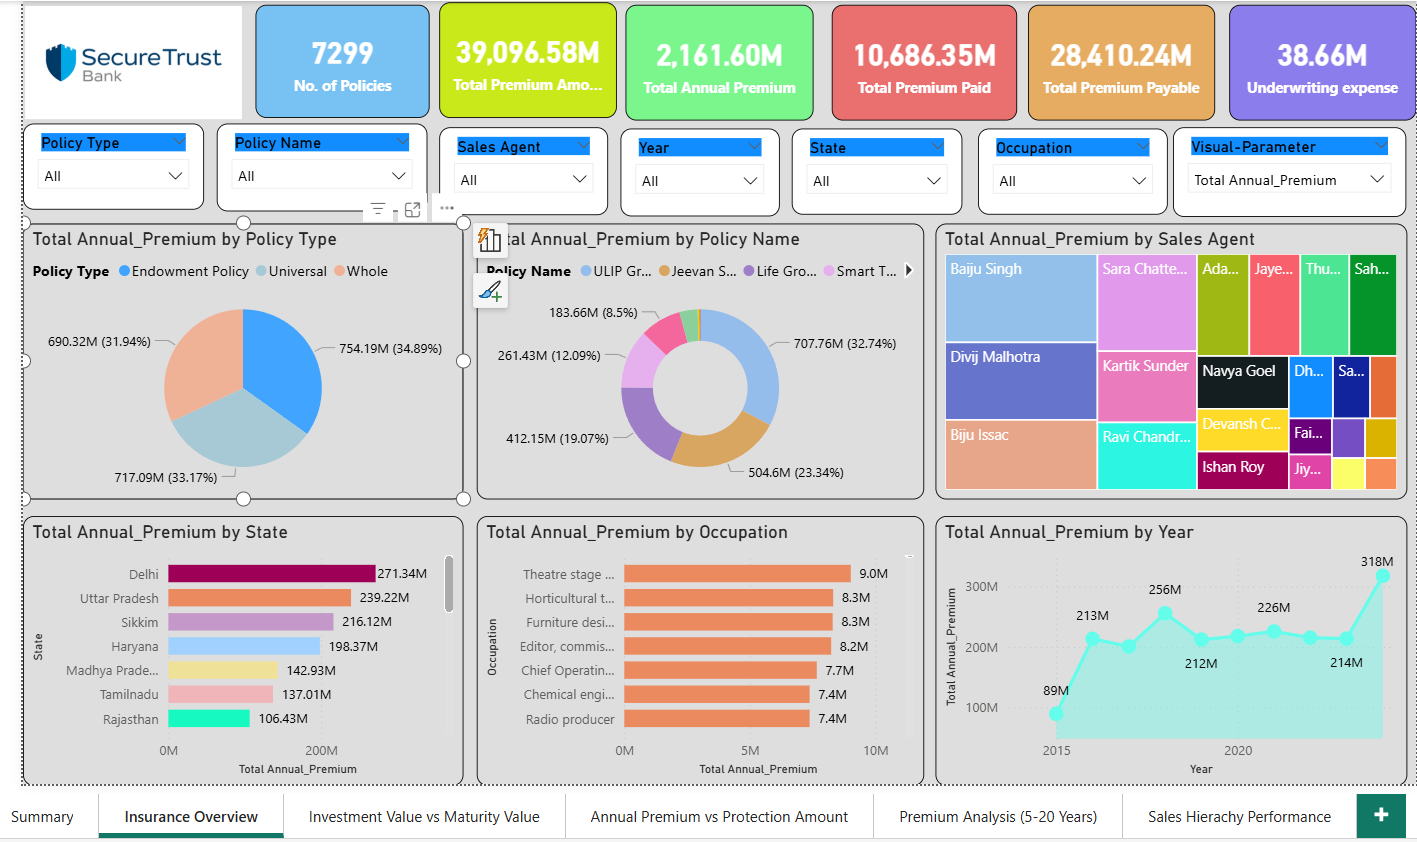

The page's visual inventory and layout, read from the dashboard file:
{"tool":"powerbi","page":{"name":"Insurance Overview","canvas":[1280,720],"ordinal":1},"visuals":[{"type":"card","fields":{"Values":["CountNonNull(DM Customer_Detail_Table.Customer ID)"]},"box":[213.5,2.9,160.1,103.9],"z":0},{"type":"card","fields":{"Values":["Sum(FCT Insurance_Policy_Table.Total Annual Premium)"]},"box":[554,2.9,173.1,106.8],"z":1000},{"type":"card","fields":{"Values":["Sum(FCT Insurance_Policy_Table.Total Premium Amount)"]},"box":[382.3,1.4,163,106.8],"z":2000},{"type":"card","fields":{"Values":["Sum(FCT Insurance_Policy_Table.Total Premium Paid)"]},"box":[743,2.9,170.2,106.8],"z":3000},{"type":"card","fields":{"Values":["Sum(FCT Insurance_Policy_Table.Total Premium Payable)"]},"box":[923.4,2.9,171.7,106.8],"z":4000},{"type":"card","fields":{"Values":["FCT Insurance_Policy_Table.Underwriting expense"]},"box":[1108,2.9,171.7,106.8],"z":5000},{"type":"slicer","fields":{"Values":["DM Policy_Type.Policy Type"]},"box":[0,112.7,166.7,79.4],"z":6000},{"type":"slicer","fields":{"Values":["DM Policy_Protection_Plan.Policy Name"]},"box":[177.8,112.7,193.7,81],"z":7000},{"type":"slicer","fields":{"Values":["DM Insurance_Agent_Table.Sales Agent"]},"box":[382.5,115.9,155.6,81],"z":8000},{"type":"slicer","fields":{"Values":["FCT Insurance_Policy_Table.Year"]},"box":[549.2,117.5,146,81],"z":9000},{"type":"slicer","fields":{"Values":["DM Customer_Detail_Table.State"]},"box":[706.3,117.5,157.1,79.4],"z":10000},{"type":"slicer","fields":{"Values":["DM Customer_Detail_Table.Occupation"]},"box":[877.8,117.5,174.6,79.4],"z":11000},{"type":"pieChart","fields":{"Y":["Measure Table.Total Annual_Premium"],"Category":["DM Policy_Type.Policy Type"]},"box":[0,204.8,404.8,254],"z":12000},{"type":"donutChart","fields":{"Y":["Measure Table.Total Annual_Premium"],"Category":["DM Policy_Protection_Plan.Policy Name"]},"box":[417.5,204.8,411.1,254],"z":13000},{"type":"treemap","fields":{"Values":["Measure Table.Total Annual_Premium"],"Group":["DM Insurance_Agent_Table.Sales Agent"]},"box":[838.1,204.8,433.3,254],"z":14000},{"type":"barChart","fields":{"Y":["Measure Table.Total Annual_Premium"],"Category":["DM Customer_Detail_Table.State"]},"box":[0,473,404.8,247.6],"z":15000},{"type":"barChart","fields":{"Y":["Measure Table.Total Annual_Premium"],"Category":["DM Customer_Detail_Table.Occupation"]},"box":[417.5,473,411.1,247.6],"z":16000},{"type":"areaChart","fields":{"Y":["Measure Table.Total Annual_Premium"],"Category":["FCT Insurance_Policy_Table.Year"]},"box":[838.1,473,433.3,247.6],"z":17000},{"type":"slicer","fields":{"Values":["Visual-Parameter.Visual-Parameter"]},"box":[1057.1,115.9,214.3,82.5],"z":18000},{"type":"image","box":[1.4,4.3,200.5,103.9],"z":19000}]}

Visuals, with their boxes in screenshot pixels (x1, y1, x2, y2):
card - CountNonNull(DM Customer_Detail_Table.Customer ID): region(248, 0, 423, 113)
card - Sum(FCT Insurance_Policy_Table.Total Annual Premium): region(620, 0, 809, 116)
card - Sum(FCT Insurance_Policy_Table.Total Premium Amount): region(432, 0, 610, 114)
card - Sum(FCT Insurance_Policy_Table.Total Premium Paid): region(826, 0, 1012, 116)
card - Sum(FCT Insurance_Policy_Table.Total Premium Payable): region(1023, 0, 1210, 116)
card - FCT Insurance_Policy_Table.Underwriting expense: region(1224, 0, 1412, 116)
slicer - DM Policy_Type.Policy Type: region(15, 119, 197, 206)
slicer - DM Policy_Protection_Plan.Policy Name: region(209, 119, 420, 208)
slicer - DM Insurance_Agent_Table.Sales Agent: region(432, 123, 602, 211)
slicer - FCT Insurance_Policy_Table.Year: region(614, 125, 774, 213)
slicer - DM Customer_Detail_Table.State: region(786, 125, 957, 211)
slicer - DM Customer_Detail_Table.Occupation: region(973, 125, 1164, 211)
pieChart - Measure Table.Total Annual_Premium x DM Policy_Type.Policy Type: region(15, 220, 457, 497)
donutChart - Measure Table.Total Annual_Premium x DM Policy_Protection_Plan.Policy Name: region(471, 220, 919, 497)
treemap - Measure Table.Total Annual_Premium x DM Insurance_Agent_Table.Sales Agent: region(930, 220, 1403, 497)
barChart - Measure Table.Total Annual_Premium x DM Customer_Detail_Table.State: region(15, 513, 457, 783)
barChart - Measure Table.Total Annual_Premium x DM Customer_Detail_Table.Occupation: region(471, 513, 919, 783)
areaChart - Measure Table.Total Annual_Premium x FCT Insurance_Policy_Table.Year: region(930, 513, 1403, 783)
slicer - Visual-Parameter.Visual-Parameter: region(1169, 123, 1403, 213)
image: region(16, 1, 235, 114)
